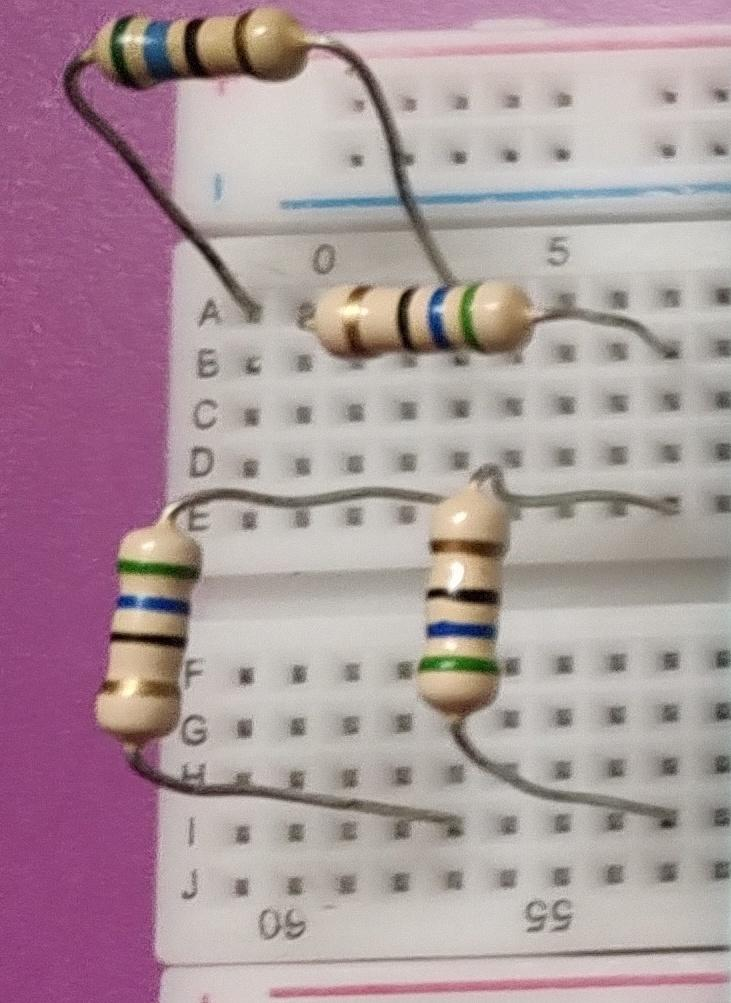resistor: (81, 503, 223, 779), (401, 479, 523, 739), (77, 0, 321, 122), (299, 269, 554, 380)
